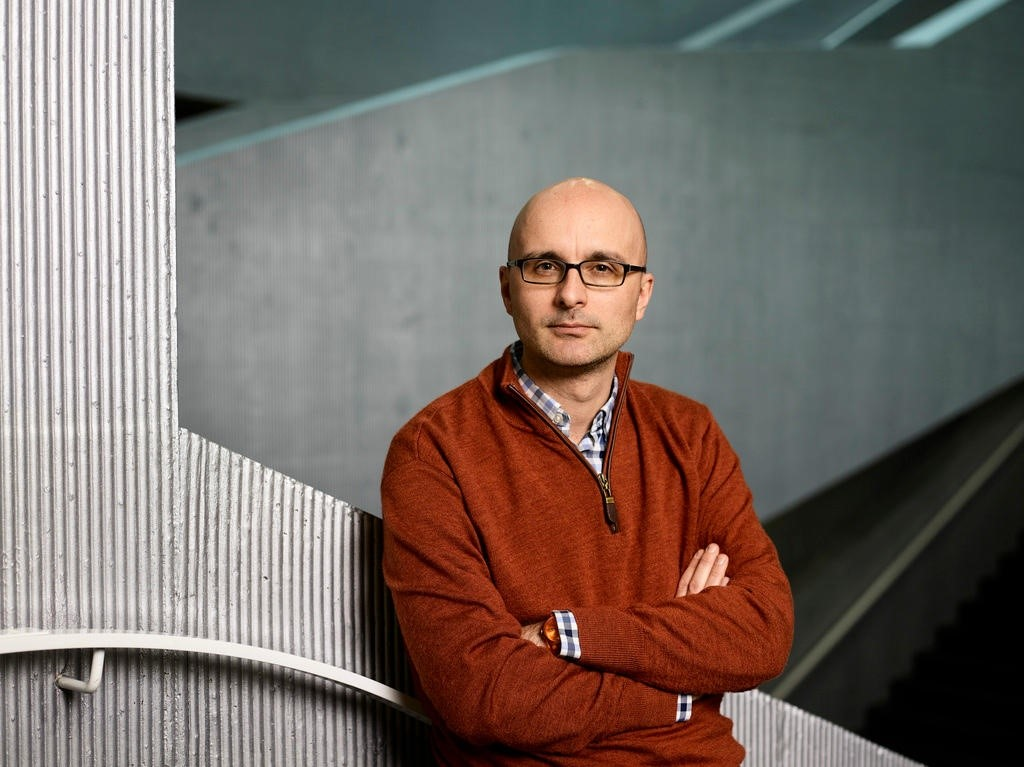face_no_mask: (507, 184, 637, 370)
